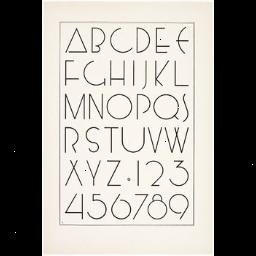d: (132, 25, 152, 57)
l: (170, 61, 194, 89)
o: (104, 88, 136, 124)
s: (84, 124, 104, 156)
